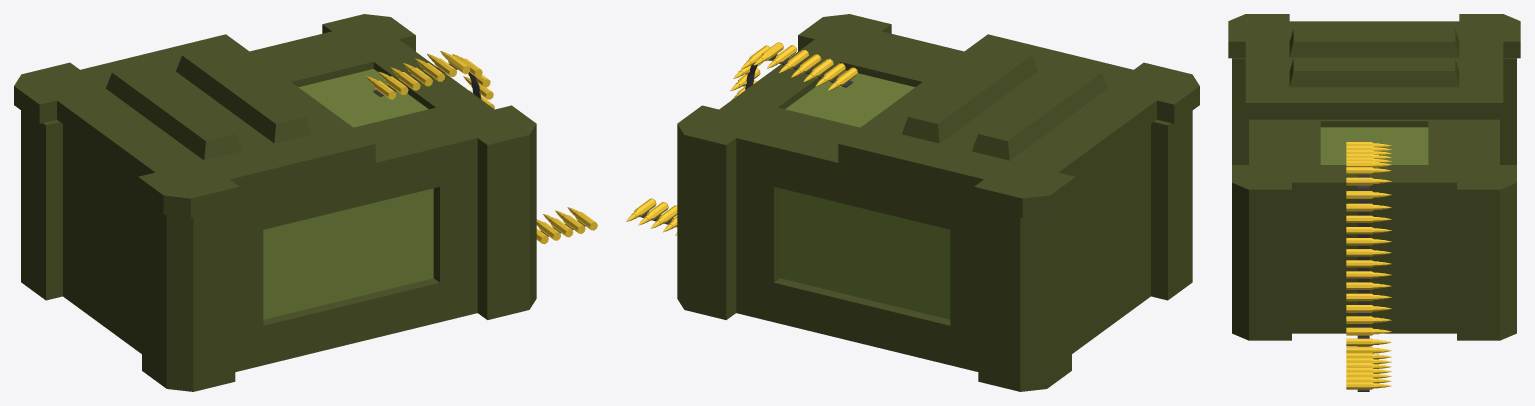
The model's file is Ammo Box.fbx.
The picture shows the model from 3 angles, left to right: view 1: azimuth 30°, elevation 25°; view 2: azimuth 150°, elevation 25°; view 3: azimuth 270°, elevation 25°; orthographic projection. The views are drawn at different scales.
Parts seen in each view (by area): view 1: Ammo_Box; view 2: Ammo_Box; view 3: Ammo_Box.
Part boxes in pixels (x1,y1,x2,y2): Ammo_Box: (14,14,597,391); Ammo_Box: (626,14,1199,391); Ammo_Box: (1228,14,1520,391).
Bounding box in the file's own units: 152 × 63.47 × 90.25.
